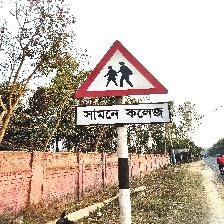College-in-front: (78, 31, 168, 128)
